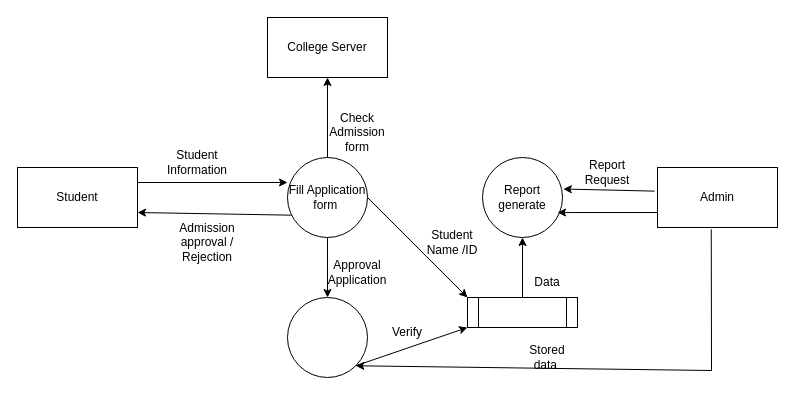
Some shapes in this 795 by 396 pixel diagram are drawn without their labels. The shapes that lost their labels are listed below. From the top down, each one's centre as x and y in pixels, then its label:
point (522, 312): Student Data
point (327, 337): Maintain Student Information
